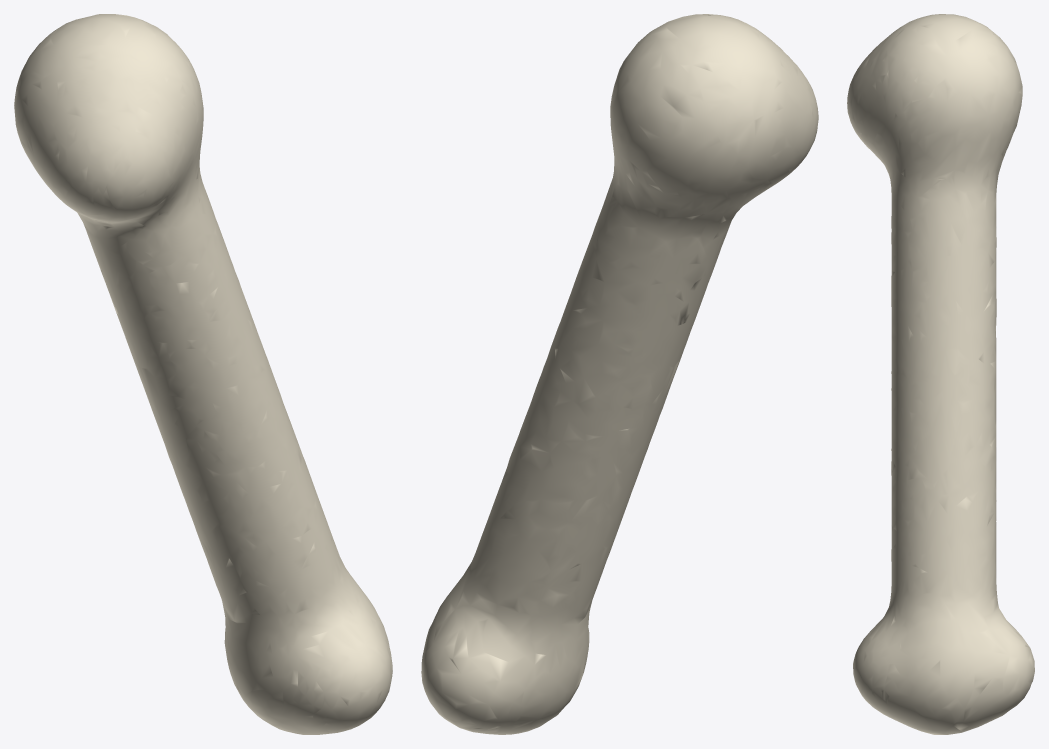
Rendered from humerus_l.glb.
3 views of the same model, side by side, from view 1: azimuth 30°, elevation 25°; view 2: azimuth 150°, elevation 25°; view 3: azimuth 270°, elevation 25° (orthographic). The views are drawn at different scales.
Visible parts, largest first — view 1: geometry_0; view 2: geometry_0; view 3: geometry_0.
Part boxes in pixels (box(x1,y1,x2,y2)): geometry_0: box(14, 14, 392, 734); geometry_0: box(421, 14, 818, 734); geometry_0: box(847, 14, 1034, 734).
Bounding box in the file's own units: 0.4398 × 0.8987 × 0.2439.
